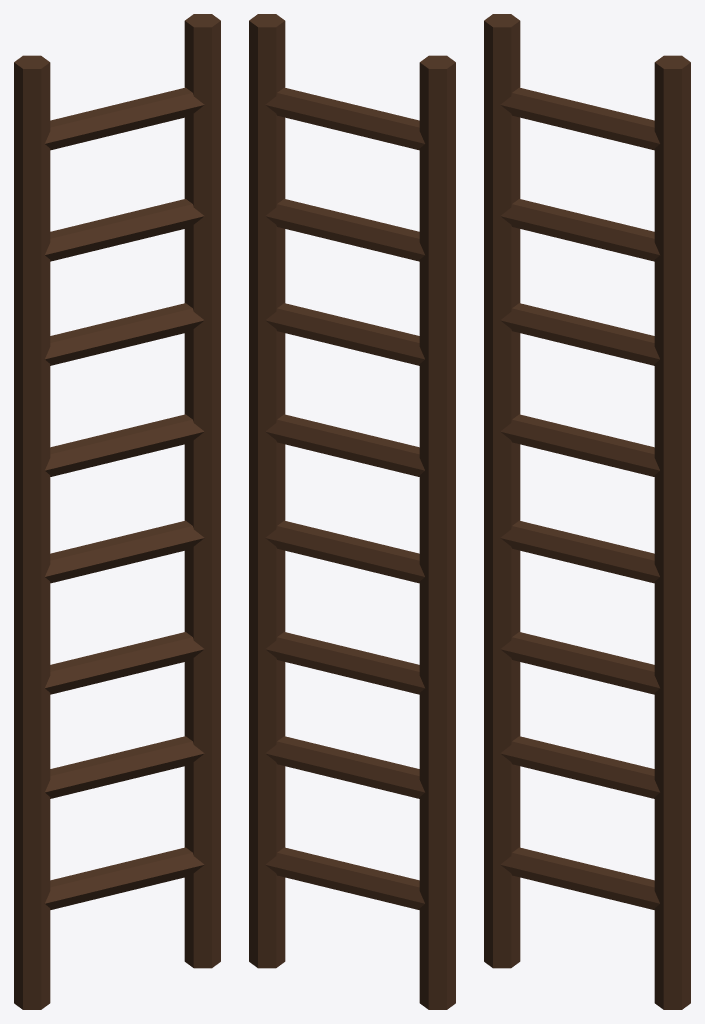
File: Ladder.fbx
The picture shows the model from 3 angles, left to right: view 1: azimuth 30°, elevation 25°; view 2: azimuth 150°, elevation 25°; view 3: azimuth 330°, elevation 25°; orthographic projection.
Parts seen in each view (by area): view 1: Cylinder; view 2: Cylinder; view 3: Cylinder.
Part boxes in pixels (x1,y1,x2,y2): Cylinder: (14,14,220,1009); Cylinder: (249,14,455,1009); Cylinder: (484,14,690,1009).
Bounding box in the file's own units: 182 × 826 × 28.8.
